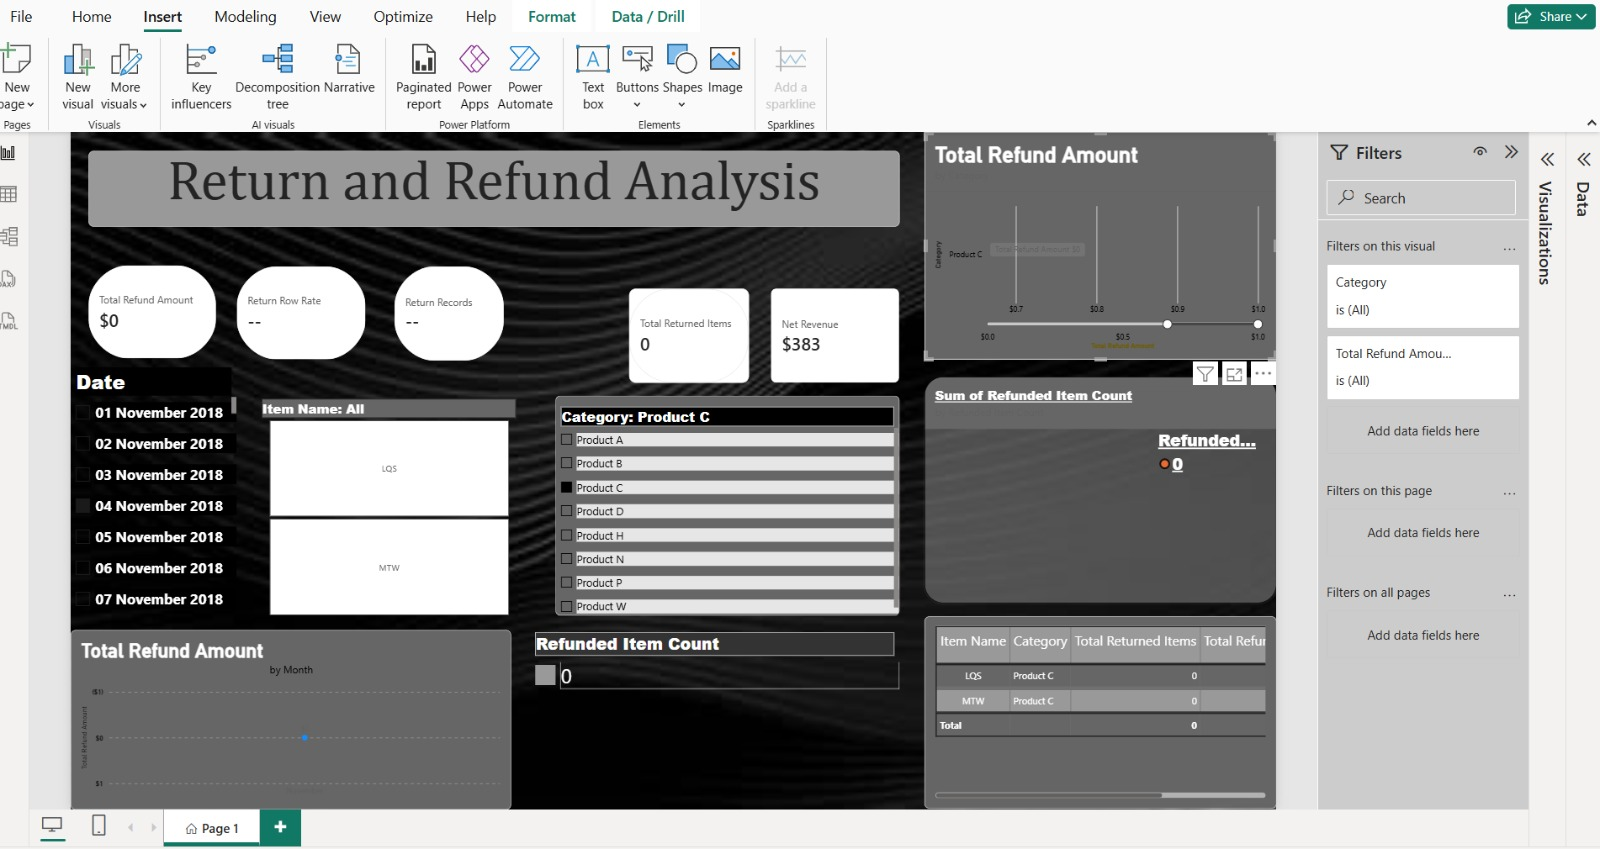

The page's visual inventory and layout, read from the dashboard file:
{"tool":"powerbi","page":{"name":"Page 1","canvas":[1920,1080],"ordinal":0},"visuals":[{"type":"cardVisual","fields":{"Data":["Returns.Total Refund Amount"]},"box":[28.8,212.2,203.6,148],"z":0},{"type":"cardVisual","fields":{"Data":["Returns.Total Returned Items"]},"box":[889.9,248.9,191.2,150.1],"z":1000},{"type":"cardVisual","fields":{"Data":["Returns.Return Row Rate"]},"box":[263.9,213.7,205.6,148],"z":2000},{"type":"cardVisual","fields":{"Data":["Returns.Net Revenue"]},"box":[1116.1,248.9,204,150],"z":3000},{"type":"cardVisual","fields":{"Data":["Returns.Return Records"]},"box":[515.3,213.7,174.8,150.1],"z":4000},{"type":"donutChart","fields":{"Category":["Returns.Refunded Item Count"],"Y":["Sum(Returns.Refunded Item Count)"]},"box":[1360,389.4,560.5,360.6],"z":5000},{"type":"areaChart","fields":{"Category":["Returns.Date.Variation.Date Hierarchy.Month"],"Y":["Returns.Total Refund Amount"]},"box":[0,794.3,701.3,286.6],"z":6000},{"type":"clusteredBarChart","fields":{"Category":["Returns.Category"],"Y":["Returns.Total Refund Amount"]},"box":[1360,0,560.5,362.7],"z":7000},{"type":"tableEx","fields":{"Values":["Returns.Item Name","Returns.Category","Returns.Total Returned Items","Returns.Total Refund Amount","Returns.Net Revenue"]},"box":[1359.9,771.7,560.6,306.7],"z":8000},{"type":"slicer","fields":{"Values":["Returns.Date"]},"box":[0,374.5,263.7,395.6],"z":9000},{"type":"slicer","fields":{"Values":["Returns.Category"]},"box":[771.7,419.8,548.1,350.3],"z":10000},{"type":"slicer","fields":{"Values":["Returns.Refunded Item Count"]},"box":[731.5,796.9,588.2,284.1],"z":11000},{"type":"slicer","fields":{"Values":["Returns.Item Name"]},"box":[296.5,425.4,420.4,346.7],"z":12000},{"type":"textbox","box":[27.7,30.2,1292.1,120.7],"z":13000}]}

Visuals, with their boxes on the page's 1920x1080 design canvas (x1, y1, x2, y2). These are canvas units, not pixel positions in the 1600x849 screenshot, which may show the page scaled, cropped or inside an application window:
cardVisual - Returns.Total Refund Amount: 29, 212, 232, 360
cardVisual - Returns.Total Returned Items: 890, 249, 1081, 399
cardVisual - Returns.Return Row Rate: 264, 214, 470, 362
cardVisual - Returns.Net Revenue: 1116, 249, 1320, 399
cardVisual - Returns.Return Records: 515, 214, 690, 364
donutChart - Returns.Refunded Item Count x Sum(Returns.Refunded Item Count): 1360, 389, 1920, 750
areaChart - Returns.Date.Variation.Date Hierarchy.Month x Returns.Total Refund Amount: 0, 794, 701, 1081
clusteredBarChart - Returns.Category x Returns.Total Refund Amount: 1360, 0, 1920, 363
tableEx - Returns.Item Name x Returns.Category: 1360, 772, 1920, 1078
slicer - Returns.Date: 0, 374, 264, 770
slicer - Returns.Category: 772, 420, 1320, 770
slicer - Returns.Refunded Item Count: 732, 797, 1320, 1081
slicer - Returns.Item Name: 296, 425, 717, 772
textbox: 28, 30, 1320, 151
